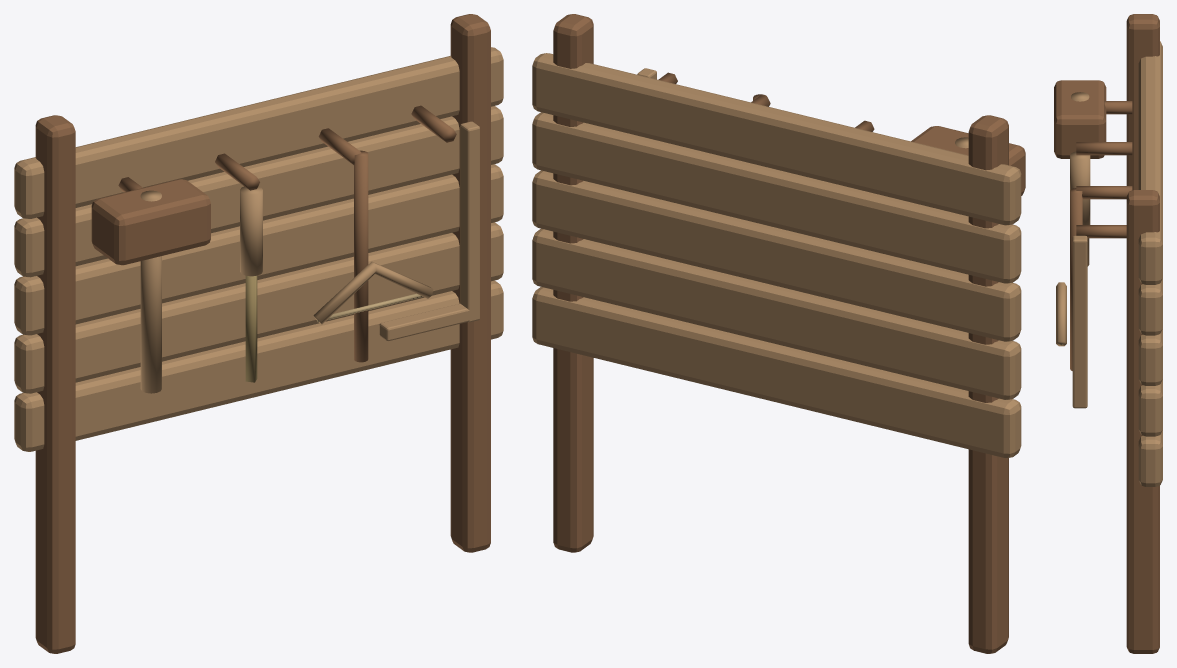
The model's file is craft-tool-rack.glb.
3 renders of one model, left to right at view 1: azimuth 30°, elevation 25°; view 2: azimuth 150°, elevation 25°; view 3: azimuth 270°, elevation 25°, orthographic. The views are drawn at different scales.
Visible parts, largest first — view 1: craft-tool-rack__woodlight, craft-tool-rack__wood, craft-tool-rack__bronze; view 2: craft-tool-rack__woodlight, craft-tool-rack__wood; view 3: craft-tool-rack__wood, craft-tool-rack__woodlight.
Part boxes in pixels (x1,y1,x2,y2): craft-tool-rack__woodlight: (14,47,503,451); craft-tool-rack__wood: (35,14,490,653); craft-tool-rack__bronze: (245,275,257,382); craft-tool-rack__woodlight: (532,53,1021,457); craft-tool-rack__wood: (553,14,1025,653); craft-tool-rack__wood: (1054,14,1159,653); craft-tool-rack__woodlight: (1056,41,1162,486).
Size of the model in its own units: 1.3 by 1.36 by 0.2925.
